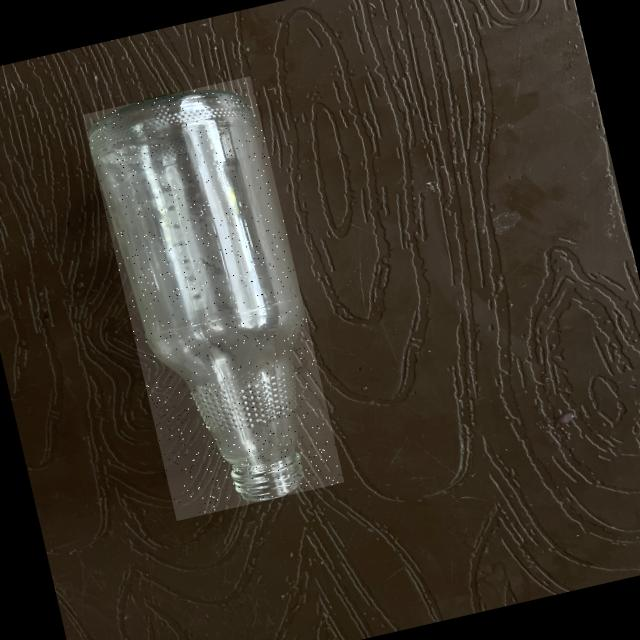Glass_Bottle: (89, 90, 302, 500)
